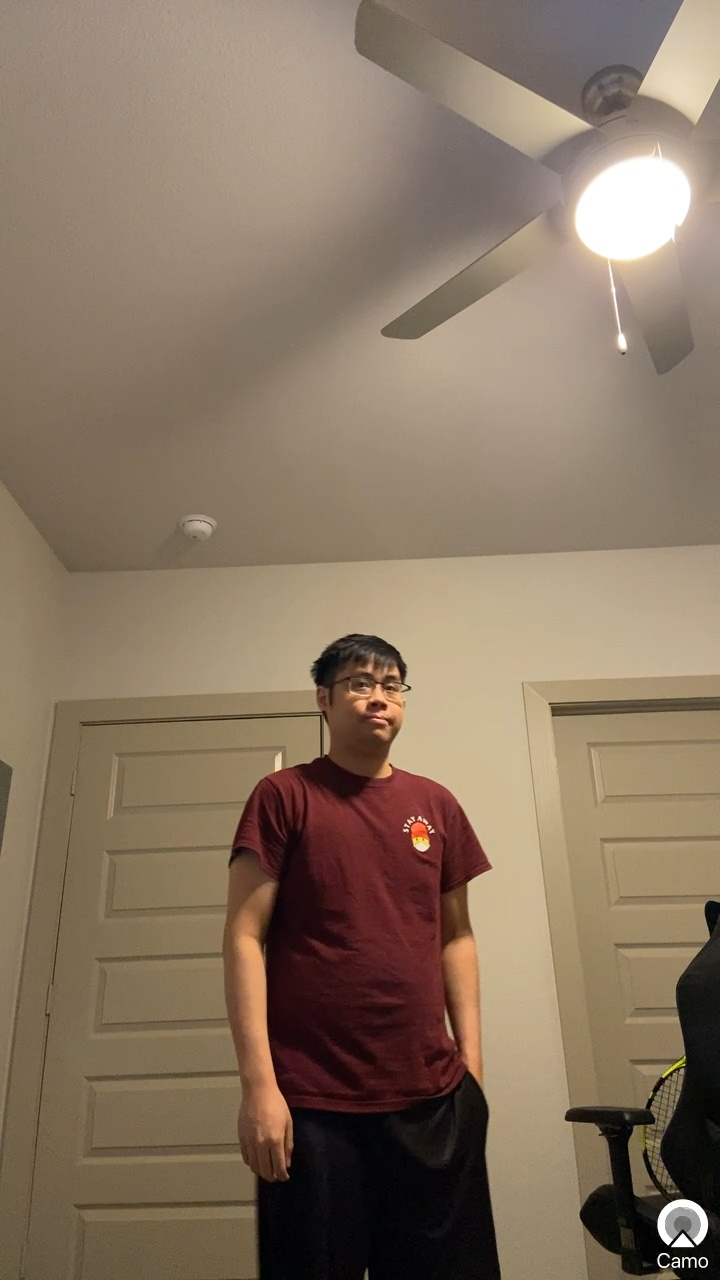Person: (210, 620, 525, 1280)
